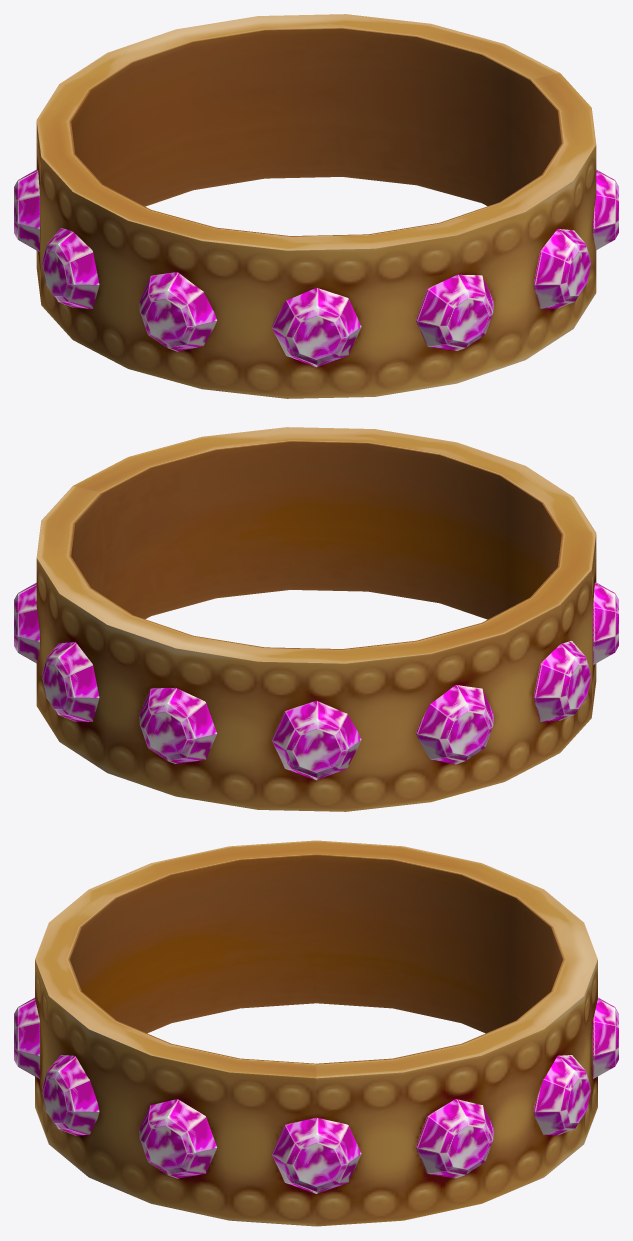
The model's file is ring_copper_04.fbx.
3 views of the same model, one above another, from view 1: azimuth 30°, elevation 25°; view 2: azimuth 150°, elevation 25°; view 3: azimuth 270°, elevation 25° (orthographic).
Visible parts, largest first — view 1: ring_copper_04; view 2: ring_copper_04; view 3: ring_copper_04.
Boxes of the visible parts, box(x1,y1,x2,y2) form: ring_copper_04: box(14, 14, 618, 398); ring_copper_04: box(14, 427, 618, 811); ring_copper_04: box(14, 840, 618, 1226).
Bounding box in the file's own units: 2.2 × 0.594 × 2.2.
